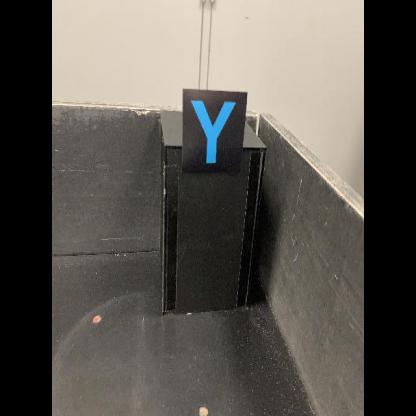y: (181, 87, 249, 175)
